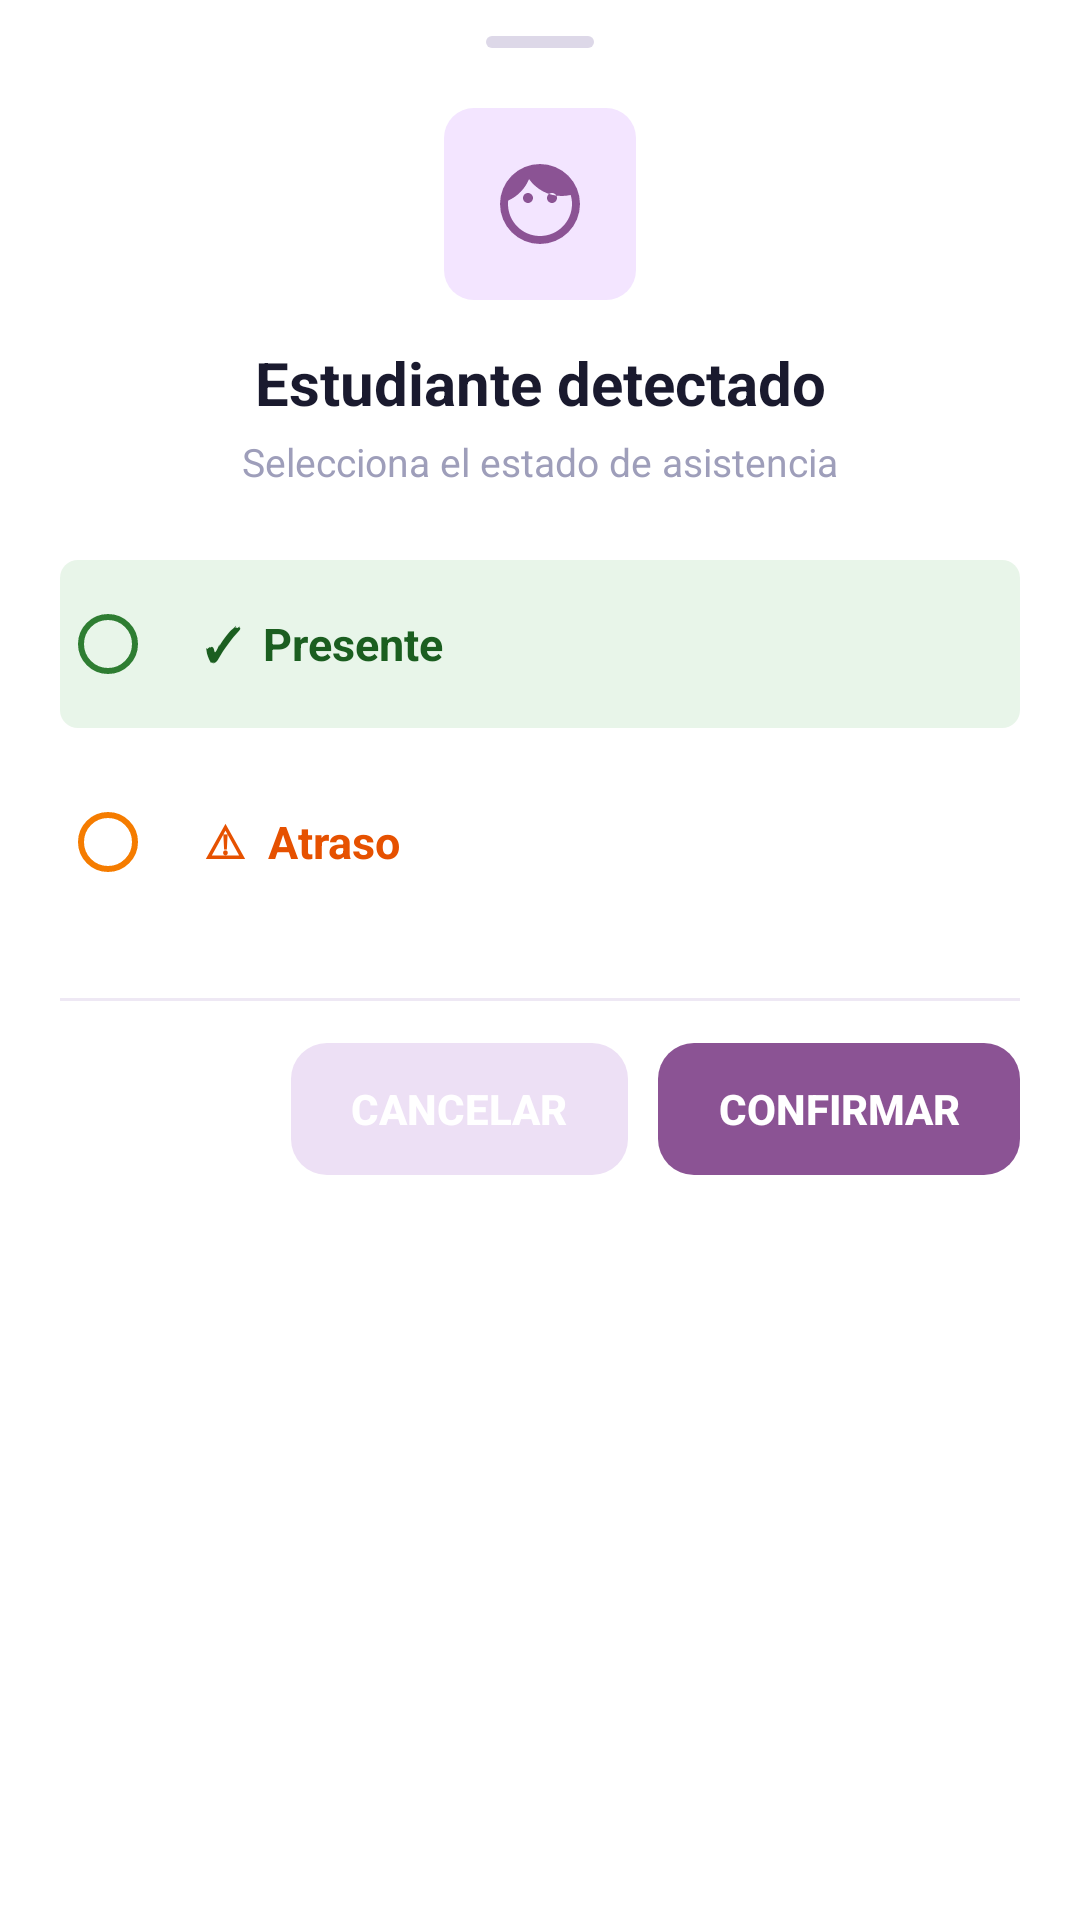

Where icons sit on this 1080px x 1920px app screen, as rect(x1, y1, x2, y2):
face recognition: rect(500, 164, 580, 244)
